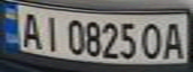0: (63, 16, 84, 55)
2: (100, 19, 121, 60)
5: (118, 19, 142, 60)
8: (81, 18, 103, 57)
A: (160, 19, 190, 60), (15, 9, 45, 50)
I: (39, 12, 63, 52)
O: (139, 19, 166, 60)
